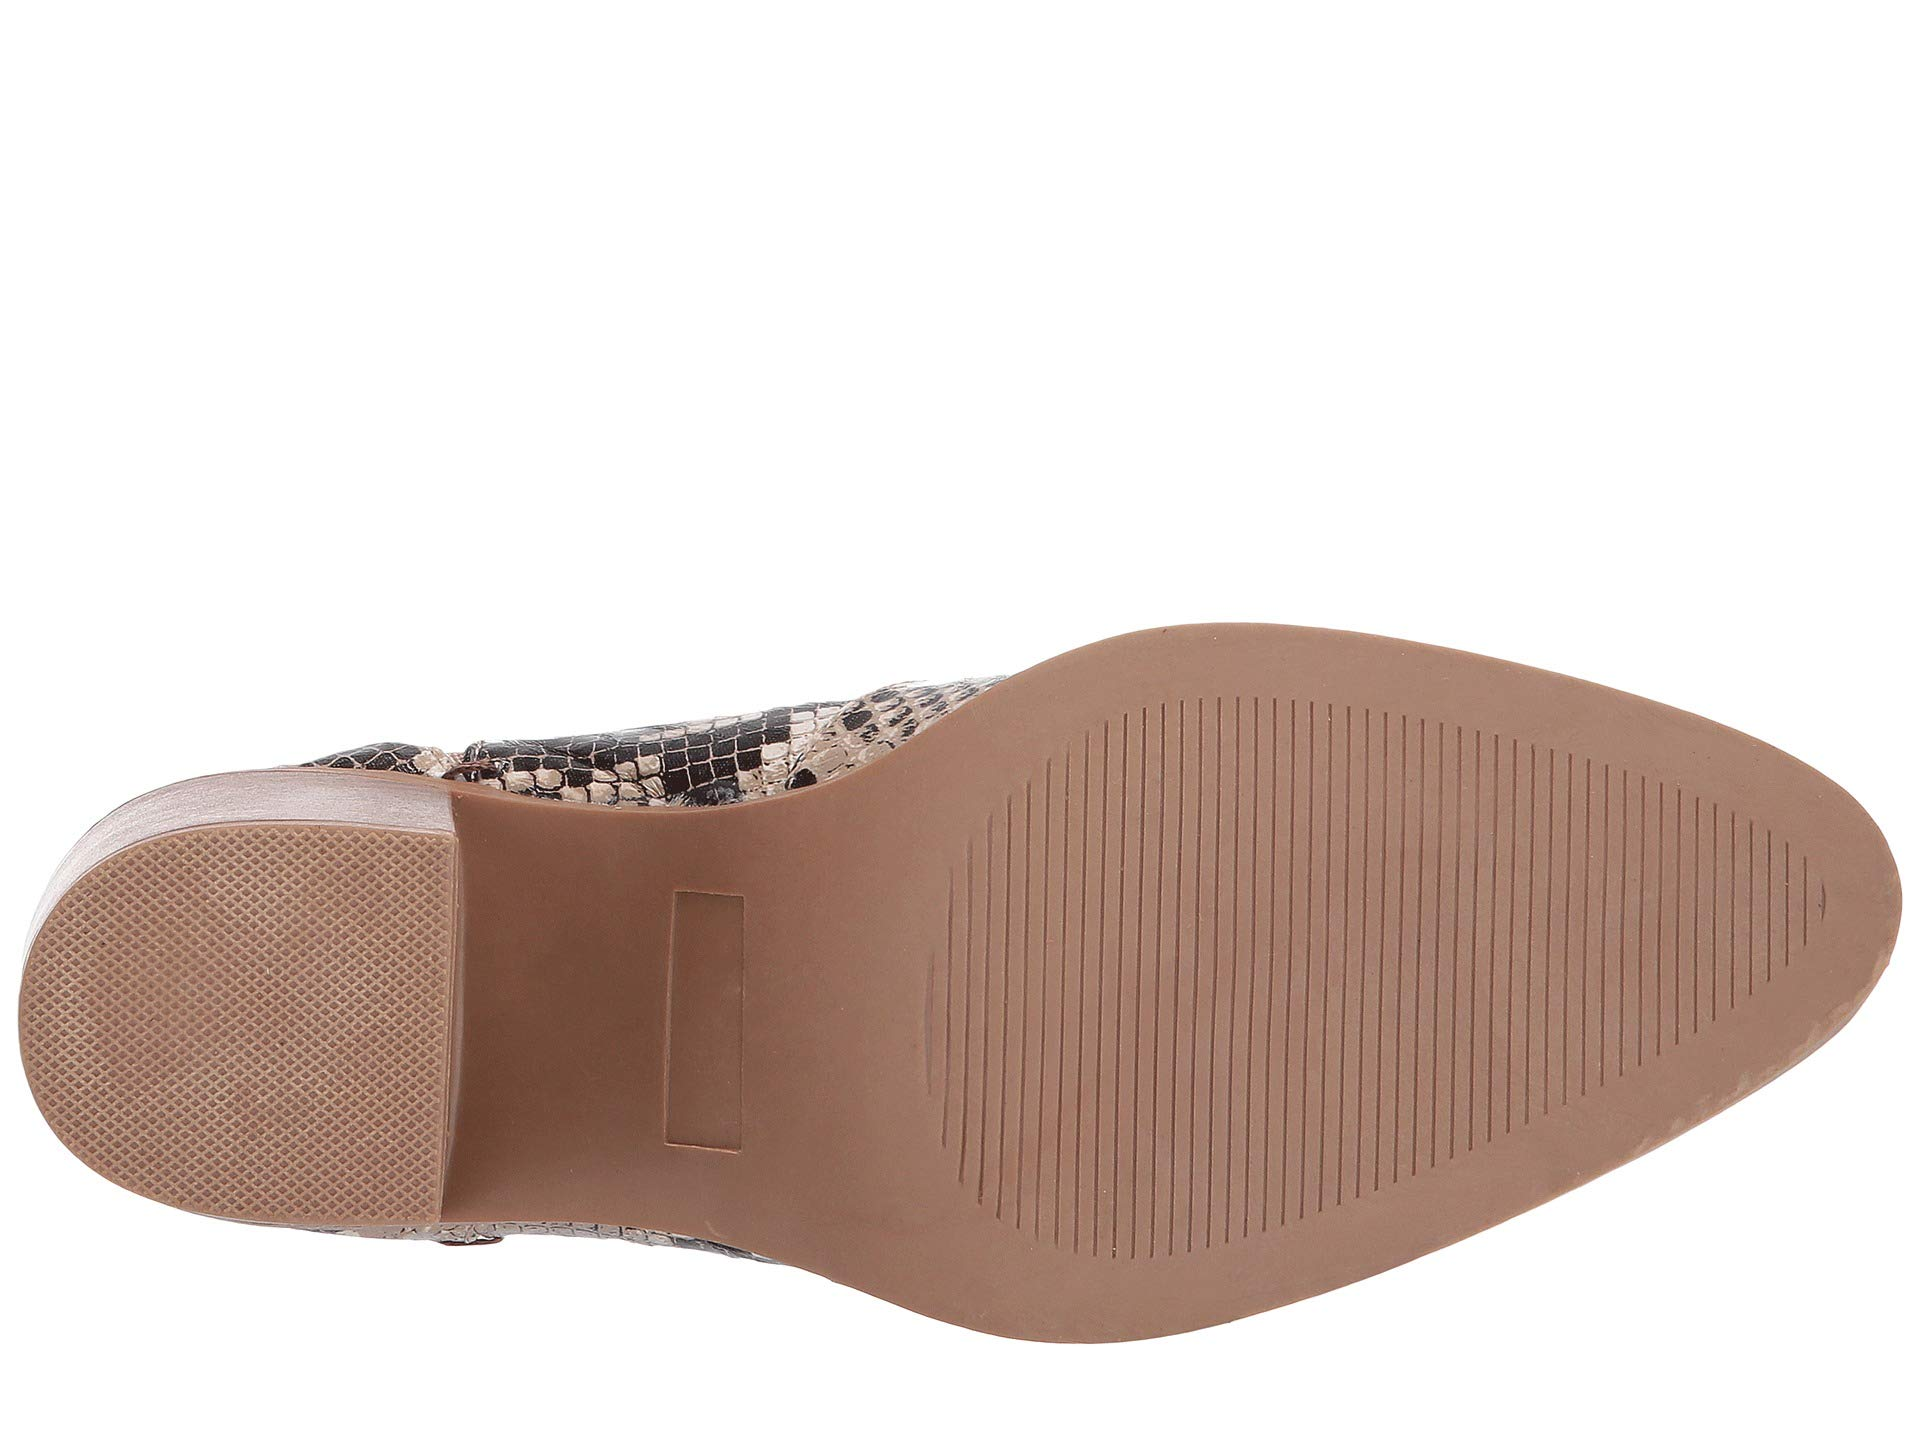line: (1082, 764, 1460, 1092)
